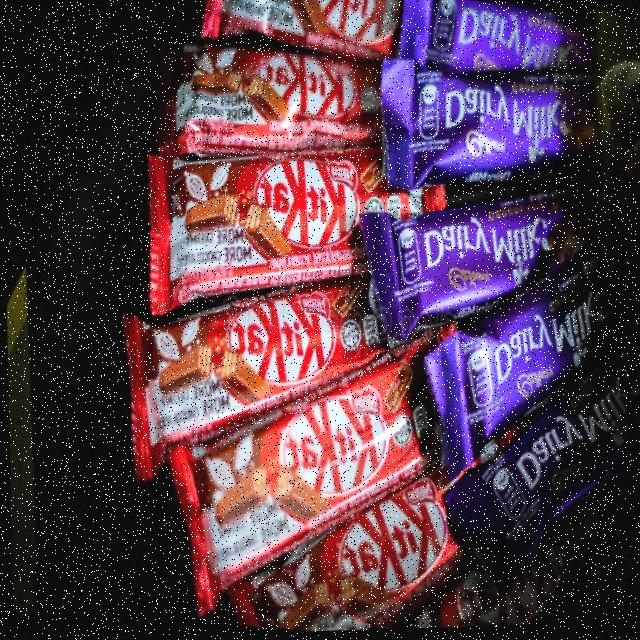kitkat: (161, 323, 444, 632), (111, 247, 395, 488), (136, 127, 394, 335), (241, 442, 481, 635), (168, 28, 384, 169), (198, 0, 405, 61)
